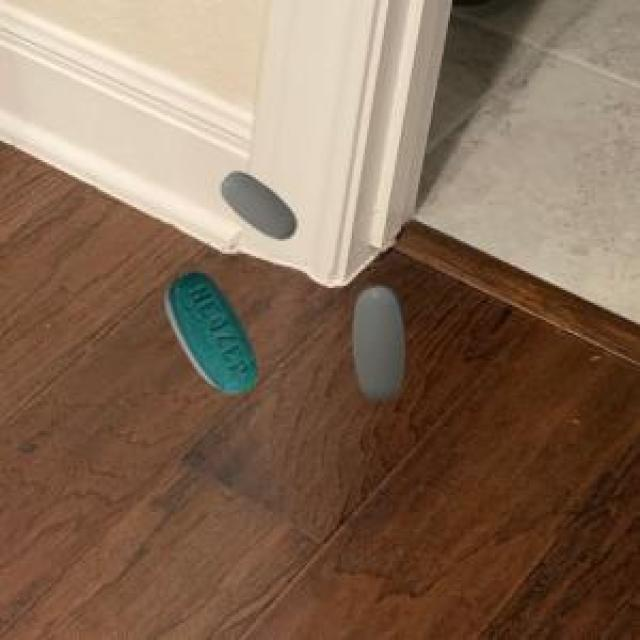Neozep: (156, 265, 264, 406), (339, 274, 419, 410), (210, 160, 311, 251)
